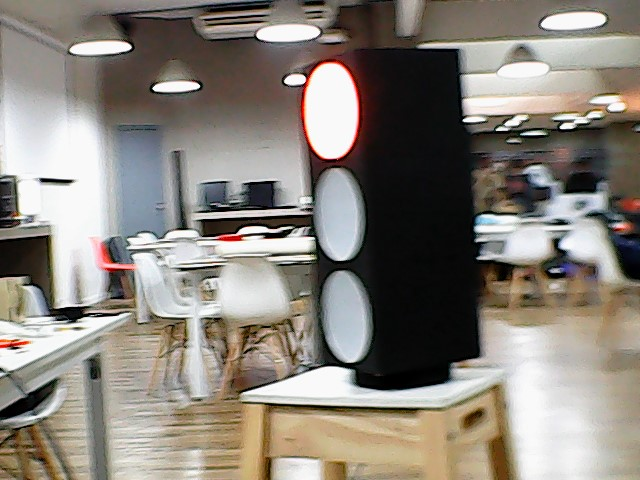vermelho: (293, 45, 493, 375)
